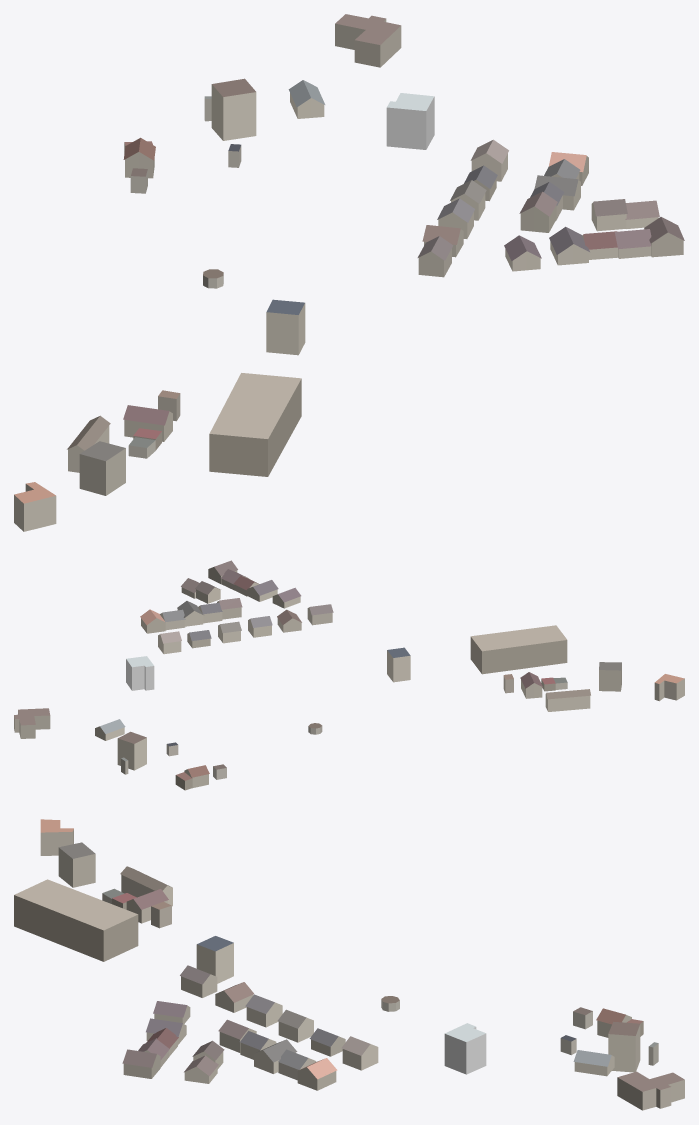
The picture shows the model from 3 angles, top to bottom: view 1: azimuth 30°, elevation 25°; view 2: azimuth 150°, elevation 25°; view 3: azimuth 270°, elevation 25°; orthographic projection. The views are drawn at different scales.
Visible parts, largest first — view 1: tuile; view 2: tuile; view 3: tuile.
Boxes of the visible parts, <box> form: tuile: <box>14,14,684,531</box>; tuile: <box>14,560,684,790</box>; tuile: <box>14,819,684,1110</box>.
Size of the model in its own units: 263 by 33.79 by 248.
